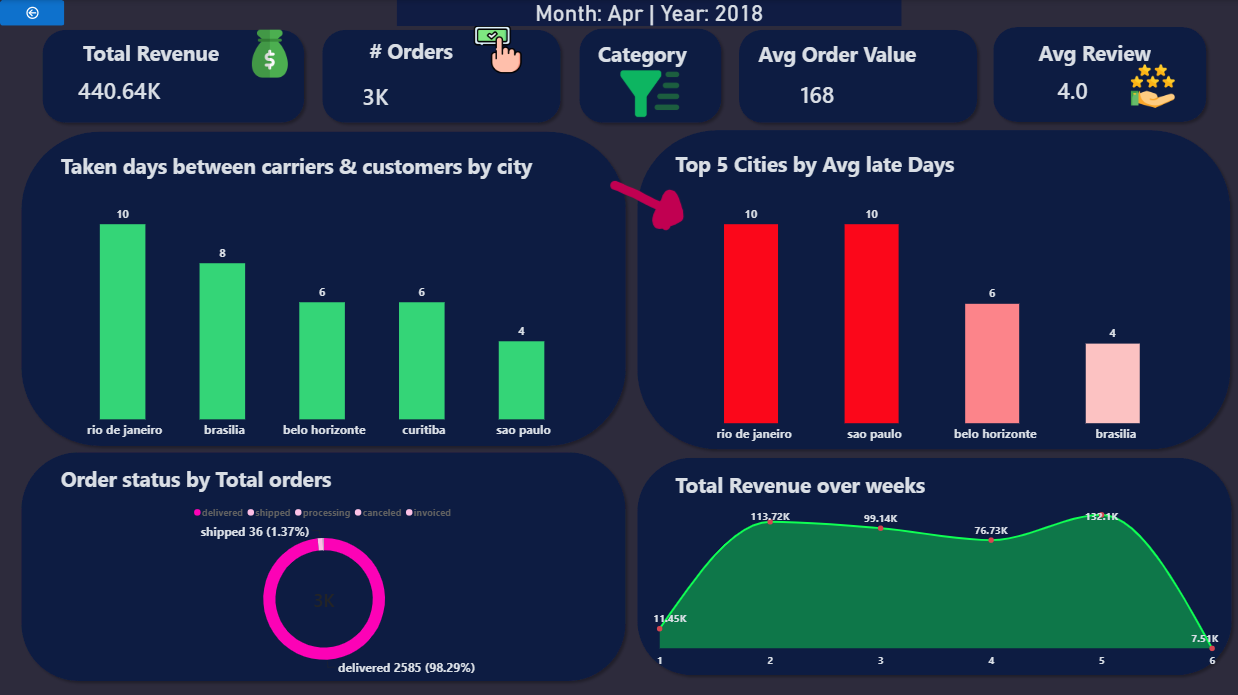

The dashboard page shown, as its layout file describes it:
{"tool":"powerbi","page":{"name":"home page","canvas":[1920,1080],"ordinal":0},"visuals":[{"type":"shape","box":[59.3,28.4,423.8,162.1],"z":0,"group":"g2"},{"type":"group","id":"g1","title":"Orders Card","box":[482.3,30.9,389.2,166.6],"z":0},{"type":"shape","box":[482.3,30.9,387.6,162.1],"z":0,"group":"g1"},{"type":"shape","box":[873.5,31.7,238.3,164.2],"z":0,"group":"g5"},{"type":"shape","box":[1131.4,31.7,387.6,162.1],"z":0,"group":"g3"},{"type":"shape","box":[1532,31.7,348.5,165.2],"z":0,"group":"g4"},{"type":"shape","box":[24.9,192.3,954.9,514.5],"z":0,"group":"g6"},{"type":"shape","box":[979.8,194.6,915.2,512.9],"z":0,"group":"g7"},{"type":"shape","box":[11.3,706,1896.3,346.2],"z":0,"group":"g8"},{"type":"group","id":"g2","title":"Revenue Card","box":[59.3,28.4,424.2,163.4],"z":1000},{"type":"textbox","box":[80.8,52.5,310.2,52.6],"z":1000,"group":"g2"},{"type":"textbox","box":[1151.1,55.8,283.7,52.6],"z":1000,"group":"g3"},{"type":"textbox","box":[892.8,57.3,174.2,124.5],"z":1000,"group":"g5"},{"type":"textbox","box":[1585.3,58.6,227.5,52.7],"z":1000,"group":"g4"},{"type":"cardVisual","fields":{"Data":["Measures_table.total_orders"]},"box":[486.2,96.2,175.3,92.1],"z":1000,"group":"g1"},{"type":"textbox","box":[94.5,232.1,784.1,70.4],"z":1000,"group":"g6"},{"type":"textbox","box":[1046.5,234.3,751.6,70.2],"z":1000,"group":"g7"},{"type":"textbox","box":[149.5,732.8,1557.2,47.4],"z":1000,"group":"g8"},{"type":"group","id":"g3","title":"Avg order Value Card","box":[1131.4,31.7,384.7,160.7],"z":2000},{"type":"textbox","box":[483.5,49.8,288.9,59.3],"z":2000,"group":"g1"},{"type":"image","box":[886.5,84.4,208.2,101.8],"z":2000,"group":"g5"},{"type":"cardVisual","fields":{"Data":["Measures_table.Total Revenue"]},"box":[73.2,85.3,230.3,94.2],"z":2000,"group":"g2"},{"type":"cardVisual","fields":{"Data":["Measures_table.Avg Review"]},"box":[1579.7,91.4,168.9,94.4],"z":2000,"group":"g4"},{"type":"cardVisual","fields":{"Data":["Measures_table.Avg Order Value"]},"box":[1143.1,98.1,240.9,85.4],"z":2000,"group":"g3"},{"type":"clusteredColumnChart","title":"Current Revenue vs Previous Year by Revenue","fields":{"Category":["gold dim_products.product_category_name"],"Y":["Measures_table.Total Revenue"]},"box":[77.8,293,851.2,413.9],"z":2000,"group":"g6"},{"type":"clusteredColumnChart","title":"Current Revenue vs Previous Year by Revenue","fields":{"Category":["gold dim_customers.customer_city"],"Y":["Measures_table.Total Revenue"]},"box":[1030.5,295,815.9,412.6],"z":2000,"group":"g7"},{"type":"lineChart","title":"Current Revenue vs Previous Year by Revenue","fields":{"Category":["gold dim_date.month"],"Y":["Measures_table.Total Revenue"]},"box":[44.5,773.9,1832.9,278.3],"z":2000,"group":"g8"},{"type":"group","id":"g4","title":"Avg reveiw Card","box":[1532,31.7,348.5,165.2],"z":3000},{"type":"cardVisual","title":"arrow","fields":{"Data":["Measures_table.Revenue YoY Arrow"]},"box":[219.4,92,84.9,80.2],"z":3000,"group":"g2"},{"type":"cardVisual","title":"arrow","fields":{"Data":["Measures_table.orders YoY Arrow"]},"box":[588.3,101.6,84.9,80.2],"z":3000,"group":"g1"},{"type":"group","id":"g5","title":"slicer","box":[873.5,31.7,238.3,164.2],"z":4000},{"type":"cardVisual","title":"%","fields":{"Data":["Measures_table.Revenue YoY %"]},"box":[266.7,75.8,216.8,116.1],"z":4000,"group":"g2"},{"type":"cardVisual","title":"%","fields":{"Data":["Measures_table.Orders YoY %"]},"box":[645.9,83.6,225.6,113.9],"z":4000,"group":"g1"},{"type":"group","id":"g6","title":"5 cat MoM","box":[24.9,192.3,954.9,513.7],"z":5000},{"type":"group","id":"g7","title":"5 City MoM","box":[979.8,194.6,916.5,513.7],"z":6000},{"type":"group","id":"g8","title":"revenue over months","box":[11.3,706,1896.3,346.2],"z":7000},{"type":"image","box":[359.2,46,118.3,74.5],"z":8000},{"type":"image","box":[1676.8,97.3,219.5,74.7],"z":9000},{"type":"image","box":[694.2,39.4,155.5,74.5],"z":10000}]}

Visuals, with their boxes in screenshot pixels (x1, y1, x2, y2), scaled from the page's 1920x1080 canvas onto the 1238x695 screenshot:
shape: <box>38,18,311,123</box>
"Orders Card" group: <box>311,20,562,127</box>
shape: <box>311,20,561,124</box>
shape: <box>563,20,717,126</box>
shape: <box>730,20,979,125</box>
shape: <box>988,20,1213,127</box>
shape: <box>16,124,632,455</box>
shape: <box>632,125,1222,455</box>
shape: <box>7,454,1230,677</box>
"Revenue Card" group: <box>38,18,312,123</box>
textbox: <box>52,34,252,68</box>
textbox: <box>742,36,925,70</box>
textbox: <box>576,37,688,117</box>
textbox: <box>1022,38,1169,72</box>
cardVisual - Measures_table.total_orders: <box>313,62,427,121</box>
textbox: <box>61,149,567,195</box>
textbox: <box>675,151,1159,196</box>
textbox: <box>96,472,1100,502</box>
"Avg order Value Card" group: <box>730,20,978,124</box>
textbox: <box>312,32,498,70</box>
image: <box>572,54,706,120</box>
cardVisual - Measures_table.Total Revenue: <box>47,55,196,116</box>
cardVisual - Measures_table.Avg Review: <box>1019,59,1127,120</box>
cardVisual - Measures_table.Avg Order Value: <box>737,63,892,118</box>
"Current Revenue vs Previous Year by Revenue" clusteredColumnChart: <box>50,189,599,455</box>
"Current Revenue vs Previous Year by Revenue" clusteredColumnChart: <box>664,190,1191,455</box>
"Current Revenue vs Previous Year by Revenue" lineChart: <box>29,498,1211,677</box>
"Avg reveiw Card" group: <box>988,20,1213,127</box>
"arrow" cardVisual: <box>141,59,196,111</box>
"arrow" cardVisual: <box>379,65,434,117</box>
"slicer" group: <box>563,20,717,126</box>
"%" cardVisual: <box>172,49,312,123</box>
"%" cardVisual: <box>416,54,562,127</box>
"5 cat MoM" group: <box>16,124,632,454</box>
"5 City MoM" group: <box>632,125,1223,456</box>
"revenue over months" group: <box>7,454,1230,677</box>
image: <box>232,30,308,78</box>
image: <box>1081,63,1223,111</box>
image: <box>448,25,548,73</box>
